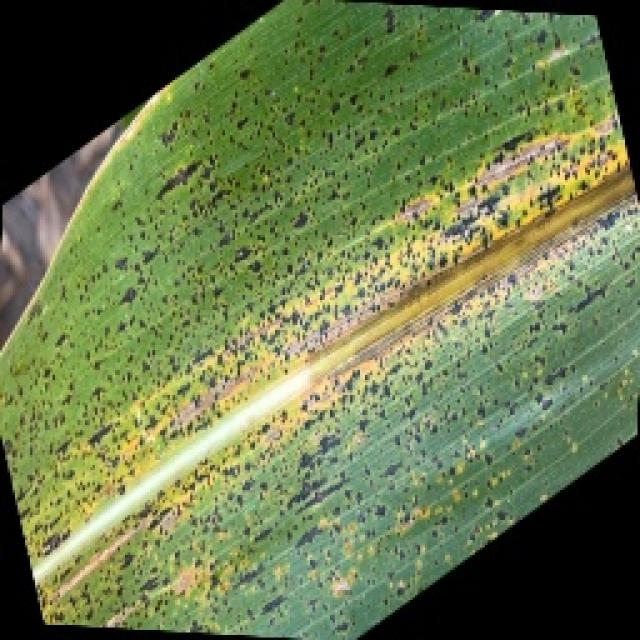Tar_Spot: (93, 133, 562, 533)
